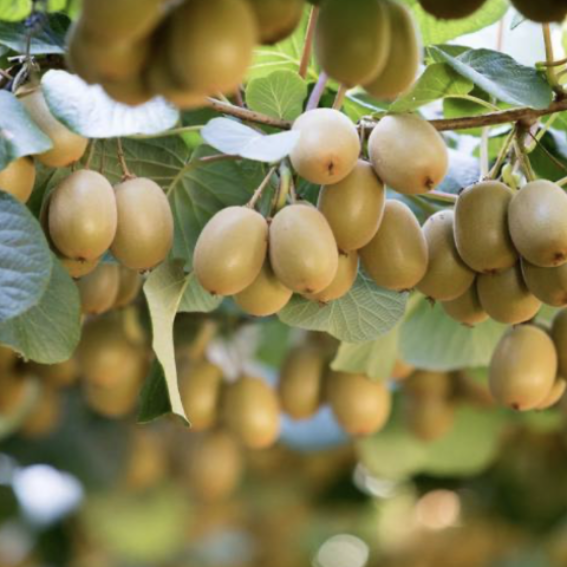kiwi: (447, 170, 536, 292), (191, 182, 277, 306), (97, 168, 184, 274), (367, 108, 456, 204), (254, 194, 339, 292), (486, 316, 563, 416), (47, 163, 117, 271)
